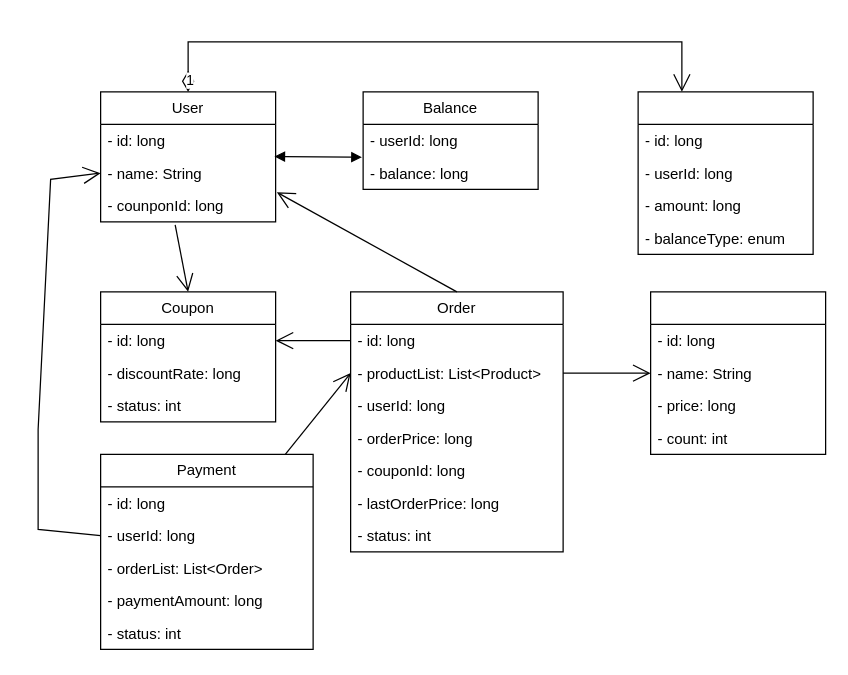
Image size: 848x675. Some labels were removed from this diagram. The box of each missing label's shape, as (x1, y1, x2, y2) in pixels:
BalanceHistory: (637, 91, 813, 254)
Product: (649, 291, 826, 454)
